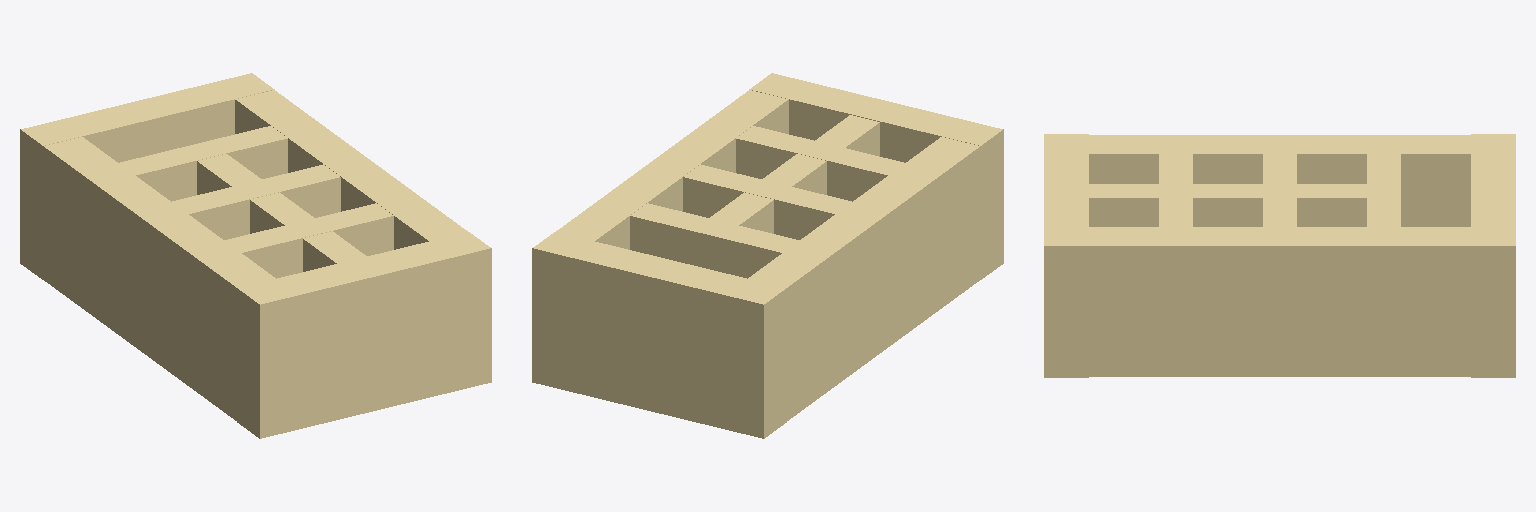
URDF robot description (bookcase):
<robot name="bookcase">
  <link name="bookcase">
    <collision>
      <origin xyz="-0.368 0.0 0.0" />
      <geometry>
        <box size="0.05 1.39 0.39" />
      </geometry>
    </collision>
    <visual>
      <origin xyz="-0.368 0.0 0.0" />
      <material name="c">
        <color rgba="0.968 0.901 0.709 1.0" />
      </material>
      <geometry>
        <box size="0.05 1.39 0.39" />
      </geometry>
    </visual>
    <collision>
      <origin xyz="0.368 0.0 0.0" />
      <geometry>
        <box size="0.05 1.39 0.39" />
      </geometry>
    </collision>
    <visual>
      <origin xyz="0.368 0.0 0.0" />
      <material name="c">
        <color rgba="0.968 0.901 0.709 1.0" />
      </material>
      <geometry>
        <box size="0.05 1.39 0.39" />
      </geometry>
    </visual>
    <collision>
      <origin xyz="0.0 -0.72 0.0" />
      <geometry>
        <box size="0.788 0.05 0.392" />
      </geometry>
    </collision>
    <visual>
      <origin xyz="0.0 -0.72 0.0" />
      <material name="c">
        <color rgba="0.968 0.901 0.709 1.0" />
      </material>
      <geometry>
        <box size="0.788 0.05 0.392" />
      </geometry>
    </visual>
    <collision>
      <origin xyz="0.0 0.72 0.0" />
      <geometry>
        <box size="0.788 0.05 0.392" />
      </geometry>
    </collision>
    <visual>
      <origin xyz="0.0 0.72 0.0" />
      <material name="c">
        <color rgba="0.968 0.901 0.709 1.0" />
      </material>
      <geometry>
        <box size="0.788 0.05 0.392" />
      </geometry>
    </visual>
    <collision>
      <origin xyz="0.0 0.35125 0.0" />
      <geometry>
        <box size="0.686 0.015 0.388" />
      </geometry>
    </collision>
    <visual>
      <origin xyz="0.0 0.35125 0.0" />
      <material name="c">
        <color rgba="0.968 0.901 0.709 1.0" />
      </material>
      <geometry>
        <box size="0.686 0.015 0.388" />
      </geometry>
    </visual>
    <collision>
      <origin xyz="0.0 0.0 0.0" />
      <geometry>
        <box size="0.686 0.015 0.388" />
      </geometry>
    </collision>
    <visual>
      <origin xyz="0.0 0.0 0.0" />
      <material name="c">
        <color rgba="0.968 0.901 0.709 1.0" />
      </material>
      <geometry>
        <box size="0.686 0.015 0.388" />
      </geometry>
    </visual>
    <collision>
      <origin xyz="0.0 -0.35125 0.0" />
      <geometry>
        <box size="0.686 0.015 0.388" />
      </geometry>
    </collision>
    <visual>
      <origin xyz="0.0 -0.35125 0.0" />
      <material name="c">
        <color rgba="0.968 0.901 0.709 1.0" />
      </material>
      <geometry>
        <box size="0.686 0.015 0.388" />
      </geometry>
    </visual>
    <collision>
      <origin xyz="0.0 0.175625 0.0" />
      <geometry>
        <box size="0.015 0.33625 0.386" />
      </geometry>
    </collision>
    <visual>
      <origin xyz="0.0 0.175625 0.0" />
      <material name="c">
        <color rgba="0.968 0.901 0.709 1.0" />
      </material>
      <geometry>
        <box size="0.015 0.33625 0.386" />
      </geometry>
    </visual>
    <collision>
      <origin xyz="0.0 -0.175625 0.0" />
      <geometry>
        <box size="0.015 0.33625 0.386" />
      </geometry>
    </collision>
    <visual>
      <origin xyz="0.0 -0.175625 0.0" />
      <material name="c">
        <color rgba="0.968 0.901 0.709 1.0" />
      </material>
      <geometry>
        <box size="0.015 0.33625 0.386" />
      </geometry>
    </visual>
    <collision>
      <origin xyz="0.0 -0.526875 0.0" />
      <geometry>
        <box size="0.015 0.33625 0.386" />
      </geometry>
    </collision>
    <visual>
      <origin xyz="0.0 -0.526875 0.0" />
      <material name="c">
        <color rgba="0.968 0.901 0.709 1.0" />
      </material>
      <geometry>
        <box size="0.015 0.33625 0.386" />
      </geometry>
    </visual>
    <collision>
      <origin xyz="-0.368 0.0 0.0" />
      <geometry>
        <box size="0.15 1.49 0.49" />
      </geometry>
    </collision>
    <visual>
      <origin xyz="-0.368 0.0 0.0" />
      <material name="c">
        <color rgba="0.968 0.901 0.709 1.0" />
      </material>
      <geometry>
        <box size="0.15 1.49 0.49" />
      </geometry>
    </visual>
    <collision>
      <origin xyz="0.368 0.0 0.0" />
      <geometry>
        <box size="0.15 1.49 0.49" />
      </geometry>
    </collision>
    <visual>
      <origin xyz="0.368 0.0 0.0" />
      <material name="c">
        <color rgba="0.968 0.901 0.709 1.0" />
      </material>
      <geometry>
        <box size="0.15 1.49 0.49" />
      </geometry>
    </visual>
    <collision>
      <origin xyz="0.0 -0.72 0.0" />
      <geometry>
        <box size="0.888 0.15 0.492" />
      </geometry>
    </collision>
    <visual>
      <origin xyz="0.0 -0.72 0.0" />
      <material name="c">
        <color rgba="0.968 0.901 0.709 1.0" />
      </material>
      <geometry>
        <box size="0.888 0.15 0.492" />
      </geometry>
    </visual>
    <collision>
      <origin xyz="0.0 0.72 0.0" />
      <geometry>
        <box size="0.888 0.15 0.492" />
      </geometry>
    </collision>
    <visual>
      <origin xyz="0.0 0.72 0.0" />
      <material name="c">
        <color rgba="0.968 0.901 0.709 1.0" />
      </material>
      <geometry>
        <box size="0.888 0.15 0.492" />
      </geometry>
    </visual>
    <collision>
      <origin xyz="0.0 0.35125 0.0" />
      <geometry>
        <box size="0.786 0.115 0.488" />
      </geometry>
    </collision>
    <visual>
      <origin xyz="0.0 0.35125 0.0" />
      <material name="c">
        <color rgba="0.968 0.901 0.709 1.0" />
      </material>
      <geometry>
        <box size="0.786 0.115 0.488" />
      </geometry>
    </visual>
    <collision>
      <origin xyz="0.0 0.0 0.0" />
      <geometry>
        <box size="0.786 0.115 0.488" />
      </geometry>
    </collision>
    <visual>
      <origin xyz="0.0 0.0 0.0" />
      <material name="c">
        <color rgba="0.968 0.901 0.709 1.0" />
      </material>
      <geometry>
        <box size="0.786 0.115 0.488" />
      </geometry>
    </visual>
    <collision>
      <origin xyz="0.0 -0.35125 0.0" />
      <geometry>
        <box size="0.786 0.115 0.488" />
      </geometry>
    </collision>
    <visual>
      <origin xyz="0.0 -0.35125 0.0" />
      <material name="c">
        <color rgba="0.968 0.901 0.709 1.0" />
      </material>
      <geometry>
        <box size="0.786 0.115 0.488" />
      </geometry>
    </visual>
    <collision>
      <origin xyz="0.0 0.175625 0.0" />
      <geometry>
        <box size="0.115 0.43625 0.486" />
      </geometry>
    </collision>
    <visual>
      <origin xyz="0.0 0.175625 0.0" />
      <material name="c">
        <color rgba="0.968 0.901 0.709 1.0" />
      </material>
      <geometry>
        <box size="0.115 0.43625 0.486" />
      </geometry>
    </visual>
    <collision>
      <origin xyz="0.0 -0.175625 0.0" />
      <geometry>
        <box size="0.115 0.43625 0.486" />
      </geometry>
    </collision>
    <visual>
      <origin xyz="0.0 -0.175625 0.0" />
      <material name="c">
        <color rgba="0.968 0.901 0.709 1.0" />
      </material>
      <geometry>
        <box size="0.115 0.43625 0.486" />
      </geometry>
    </visual>
    <collision>
      <origin xyz="0.0 -0.526875 0.0" />
      <geometry>
        <box size="0.115 0.43625 0.486" />
      </geometry>
    </collision>
    <visual>
      <origin xyz="0.0 -0.526875 0.0" />
      <material name="c">
        <color rgba="0.968 0.901 0.709 1.0" />
      </material>
      <geometry>
        <box size="0.115 0.43625 0.486" />
      </geometry>
    </visual>
  </link>
</robot>

--- What the picture shows (computed from the rendered views, not written in the file) ---
3 views of the same robot in one strip: view 1: azimuth 30°, elevation 25°; view 2: azimuth 150°, elevation 25°; view 3: azimuth 270°, elevation 25° (orthographic).
Robot: bookcase — 1 links, 0 joints (none); root link bookcase; default pose: every joint at zero.
Visible links, largest first — view 1: bookcase; view 2: bookcase; view 3: bookcase.
Boxes of the visible links, x1,y1,x2,y2 form: bookcase: (20, 73, 491, 438); bookcase: (532, 73, 1003, 438); bookcase: (1044, 134, 1515, 377).
Bounding box of the posed robot: 0.888 × 1.59 × 0.492 m (x, y, z).
Geometry: primitives only (box / cylinder / sphere), no mesh files.